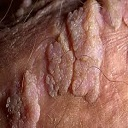Wart: (47, 7, 111, 94), (8, 72, 40, 128)
